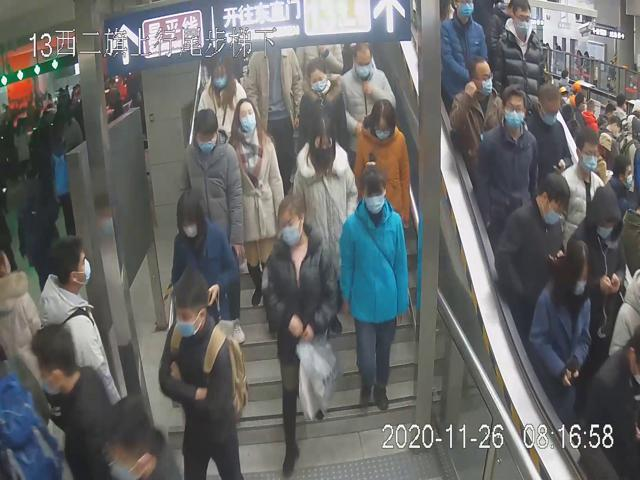person: (261, 196, 341, 480), (158, 269, 248, 480), (335, 155, 408, 414), (176, 105, 245, 294), (530, 236, 593, 430), (229, 96, 285, 307), (289, 111, 358, 269), (169, 188, 238, 340), (495, 171, 566, 308), (474, 83, 537, 232), (355, 99, 412, 247), (449, 60, 508, 164), (342, 40, 395, 152), (296, 55, 348, 152), (195, 55, 245, 137)
